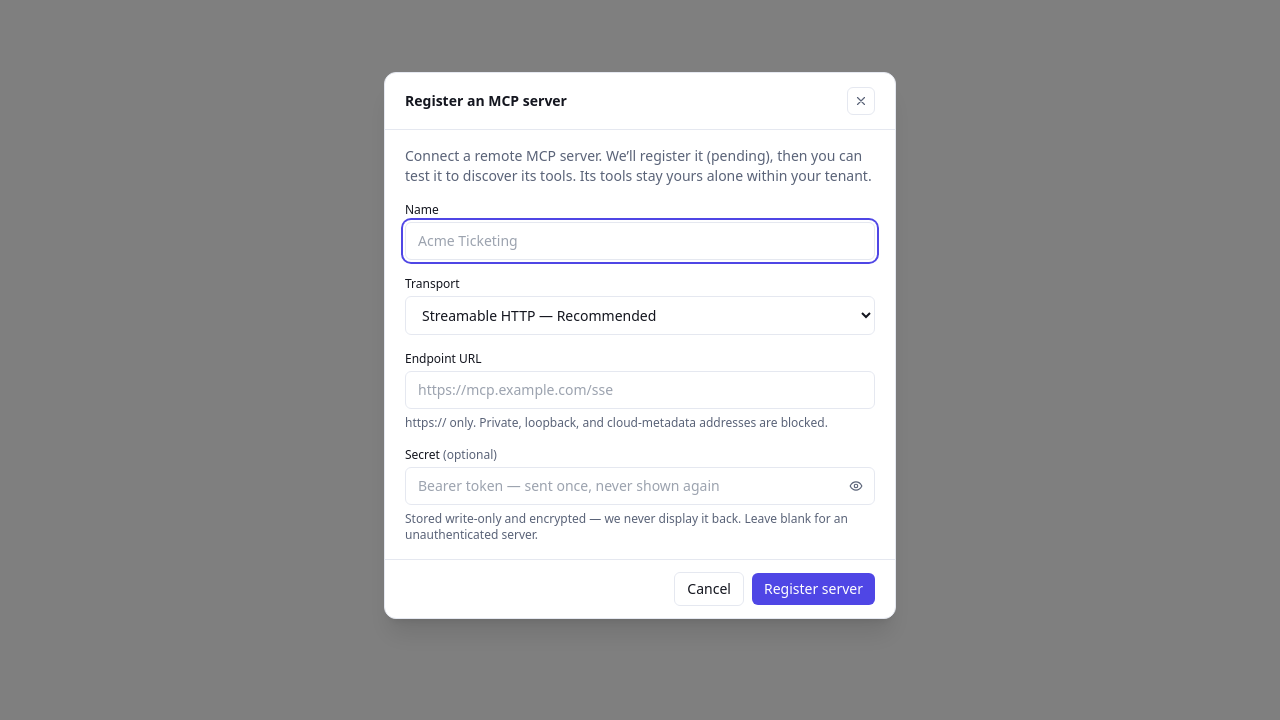
RegisterServerModal — write-only secret (AC-2 / CC-C) › reveals the secret only through an accessible non-submit control
Type "mcp-reveal-only" into the password field labelled "Secret (optional)" at point(640, 486), box 405,467 -> 875,505
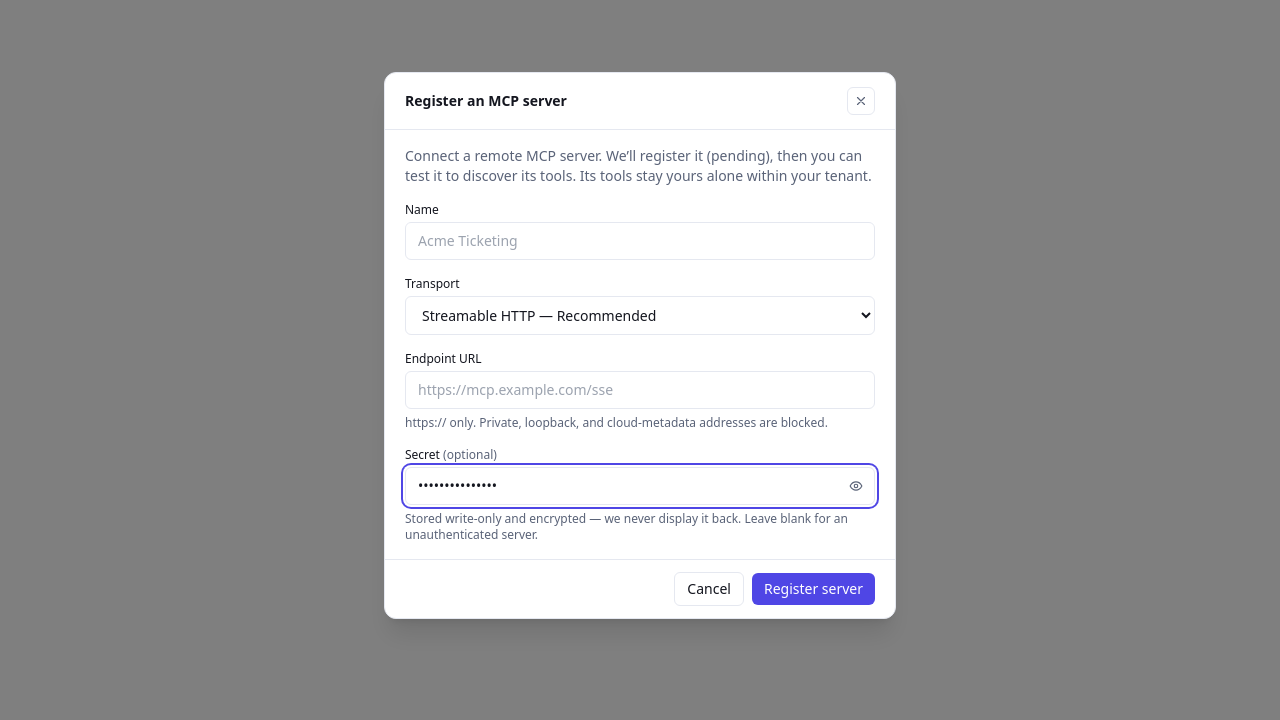
Click the button named "show secret" at point(856, 486), box 845,475 -> 867,497
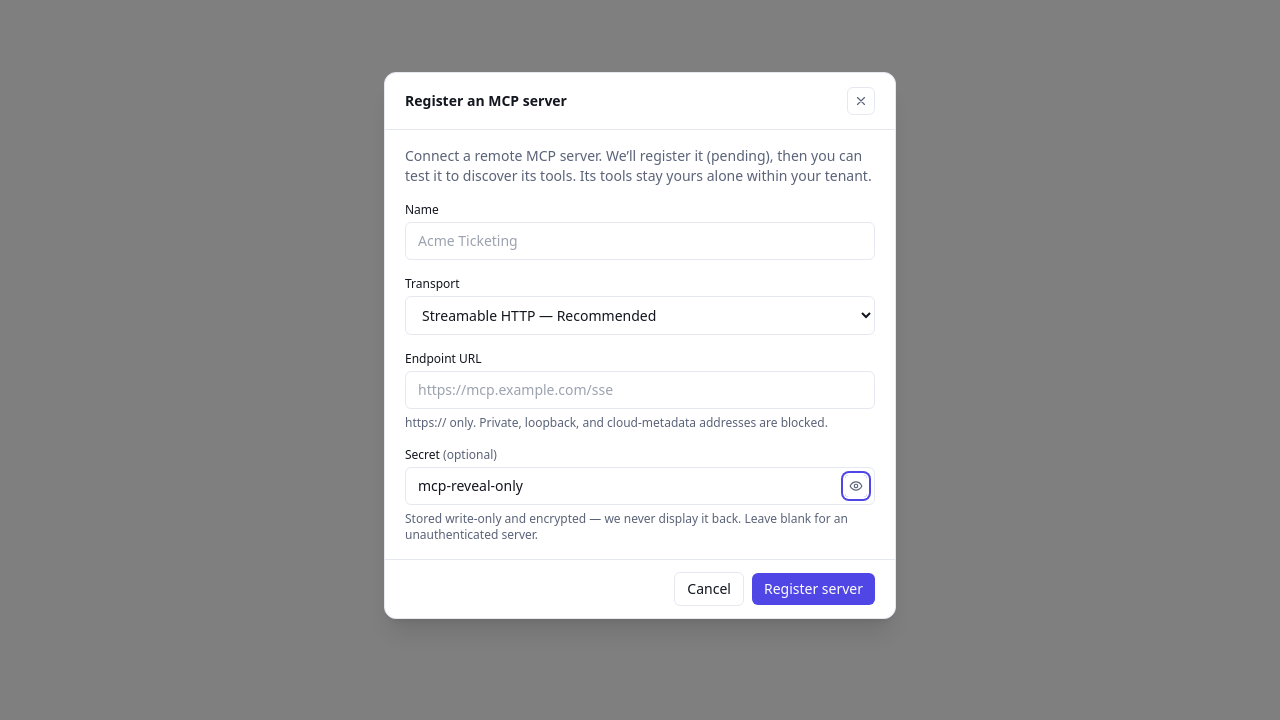
expect the field labelled "Secret (optional)" shows its text: met, box 405,467 -> 875,505
